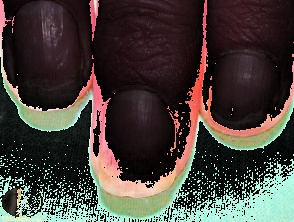Nail_psoriasis: (195, 56, 294, 151), (5, 39, 105, 128), (91, 132, 182, 201)
